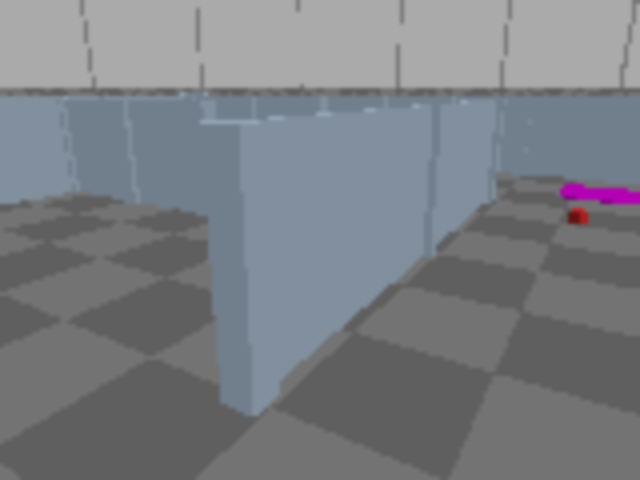goal_zone: (558, 184, 638, 207)
puck: (568, 209, 590, 225)
